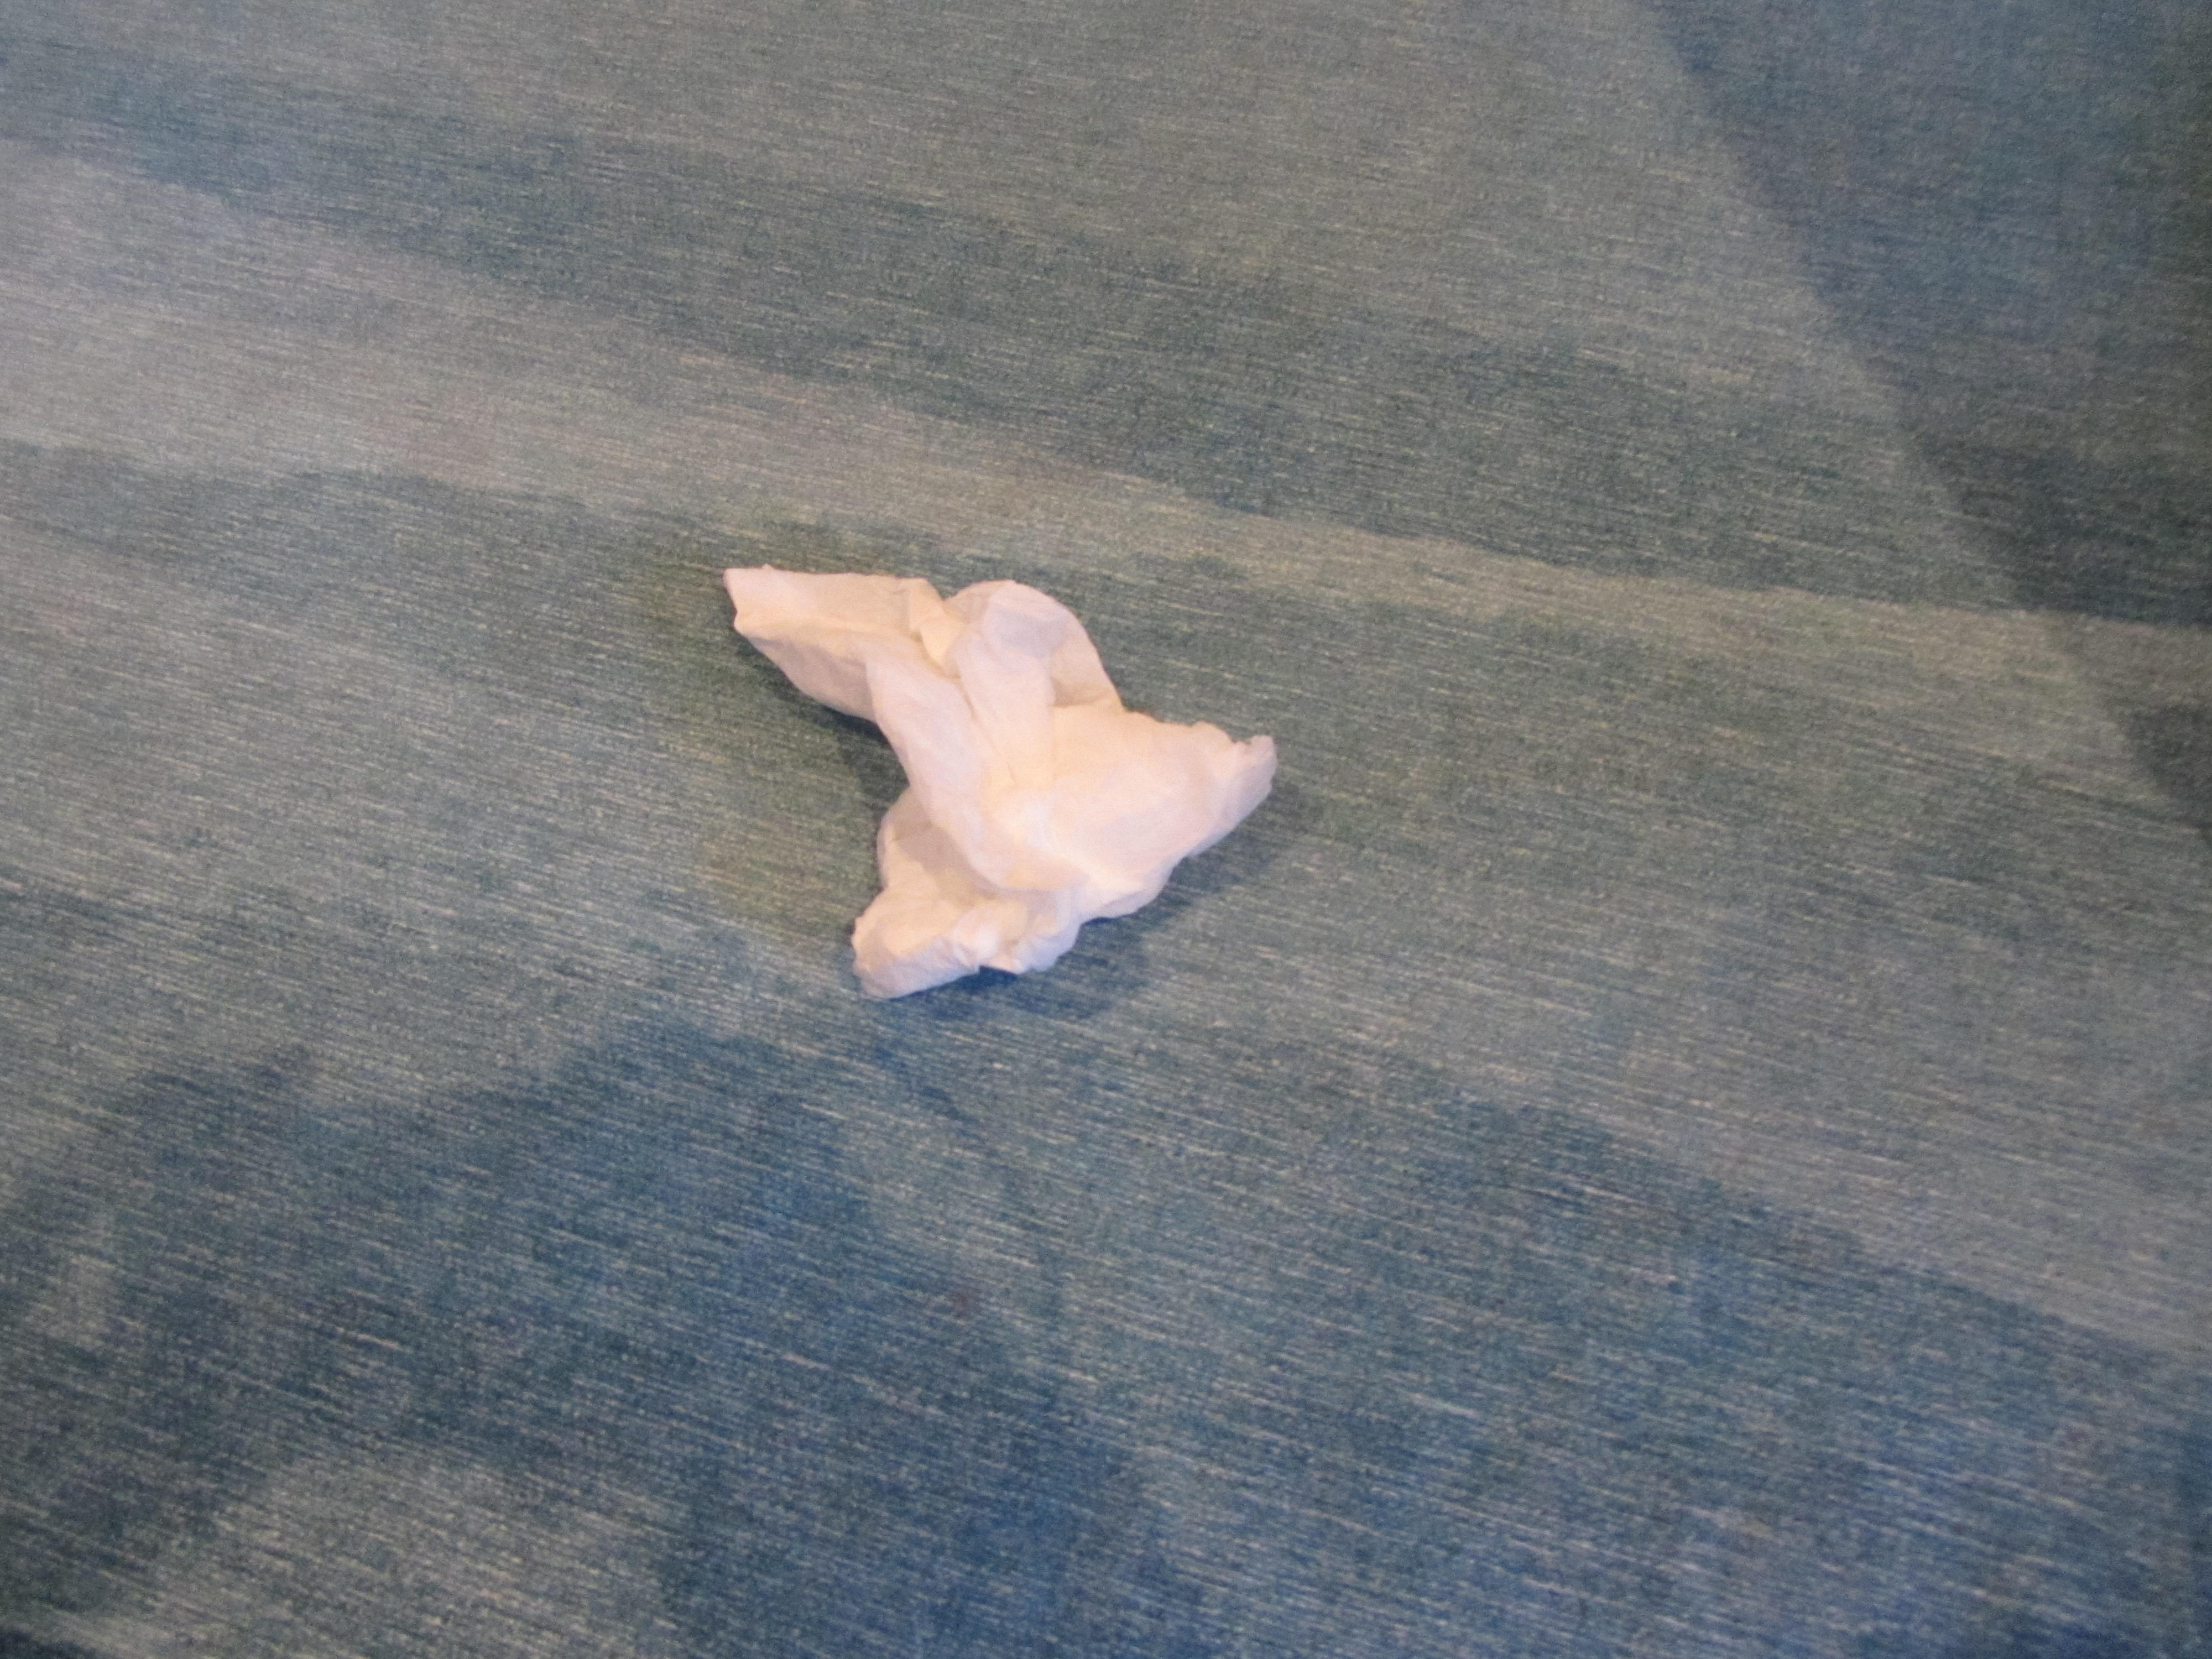tissue: (695, 558, 1289, 1004)
